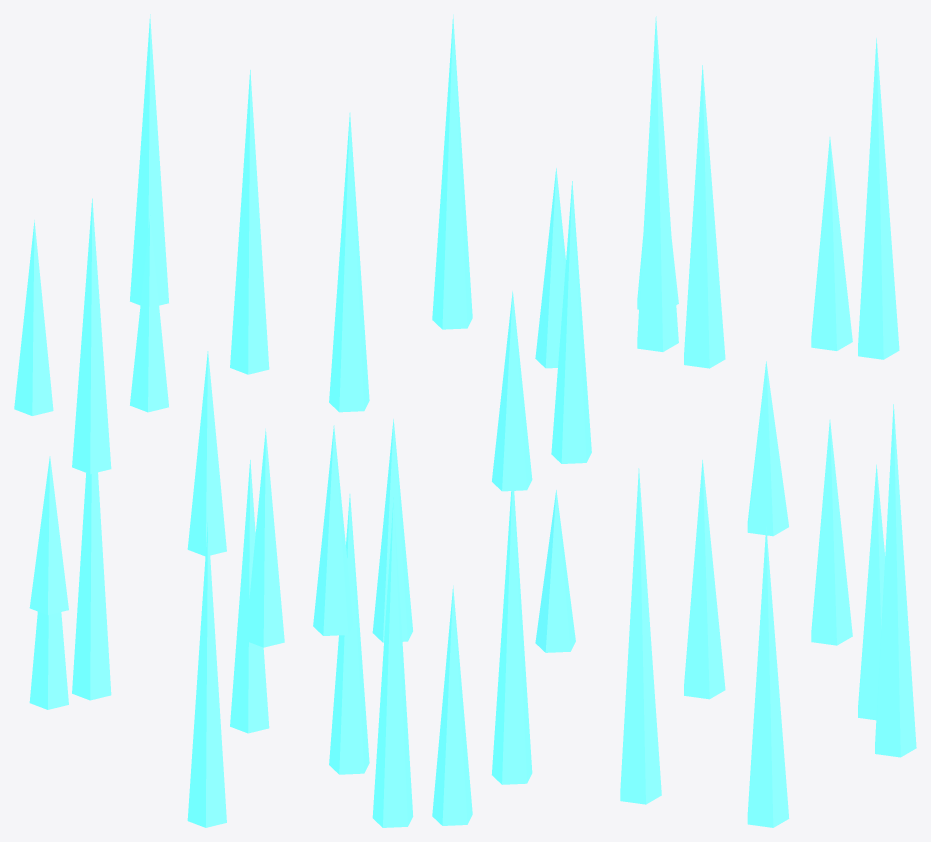
Rendered from focus-flame.glb.
3 renders of one model, left to right at view 1: azimuth 30°, elevation 25°; view 2: azimuth 150°, elevation 25°; view 3: azimuth 270°, elevation 25°, orthographic. The views are drawn at different scales.
Visible parts, largest first — view 1: Cone.009, Cone.010, Cone.003, Cone.007, Cone.002, Cone, Cone.011, Cone.001, Cone.008, Cone.005, Cone.006, Cone.004; view 2: Cone.003, Cone.010, Cone.009, Cone.002, Cone.007, Cone, Cone.004, Cone.001, Cone.005, Cone.011, Cone.006, Cone.008; view 3: Cone.003, Cone.009, Cone.010, Cone.002, Cone.007, Cone, Cone.011, Cone.001, Cone.005, Cone.006, Cone.004.
Part boxes in pixels (<box>): Cone.009: <box>187,522,226,827</box>; Cone.010: <box>230,70,269,374</box>; Cone.003: <box>72,472,111,700</box>; Cone.007: <box>72,198,111,474</box>; Cone.002: <box>130,14,168,305</box>; Cone: <box>230,460,269,733</box>; Cone.011: <box>245,428,284,647</box>; Cone.001: <box>187,351,226,556</box>; Cone.008: <box>130,215,168,412</box>; Cone.005: <box>14,220,53,415</box>; Cone.006: <box>29,456,68,615</box>; Cone.004: <box>29,611,68,709</box>; Cone.003: <box>372,497,413,827</box>; Cone.010: <box>432,14,472,329</box>; Cone.009: <box>491,491,532,784</box>; Cone.002: <box>329,112,369,412</box>; Cone.007: <box>551,181,591,463</box>; Cone: <box>329,494,369,774</box>; Cone.004: <box>432,585,472,825</box>; Cone.001: <box>313,425,353,635</box>; Cone.005: <box>492,291,532,491</box>; Cone.011: <box>372,419,412,642</box>; Cone.006: <box>535,490,575,652</box>; Cone.008: <box>535,168,565,368</box>; Cone.003: <box>875,404,916,757</box>; Cone.009: <box>620,468,661,804</box>; Cone.010: <box>637,16,678,351</box>; Cone.002: <box>858,38,899,359</box>; Cone.007: <box>684,65,725,368</box>; Cone: <box>747,526,789,827</box>; Cone.011: <box>684,460,725,699</box>; Cone.001: <box>811,419,852,645</box>; Cone.005: <box>811,137,852,350</box>; Cone.006: <box>747,361,788,536</box>; Cone.004: <box>858,464,885,720</box>.
Size of the model in its own units: 0.2342 by 0.7004 by 0.2326.
